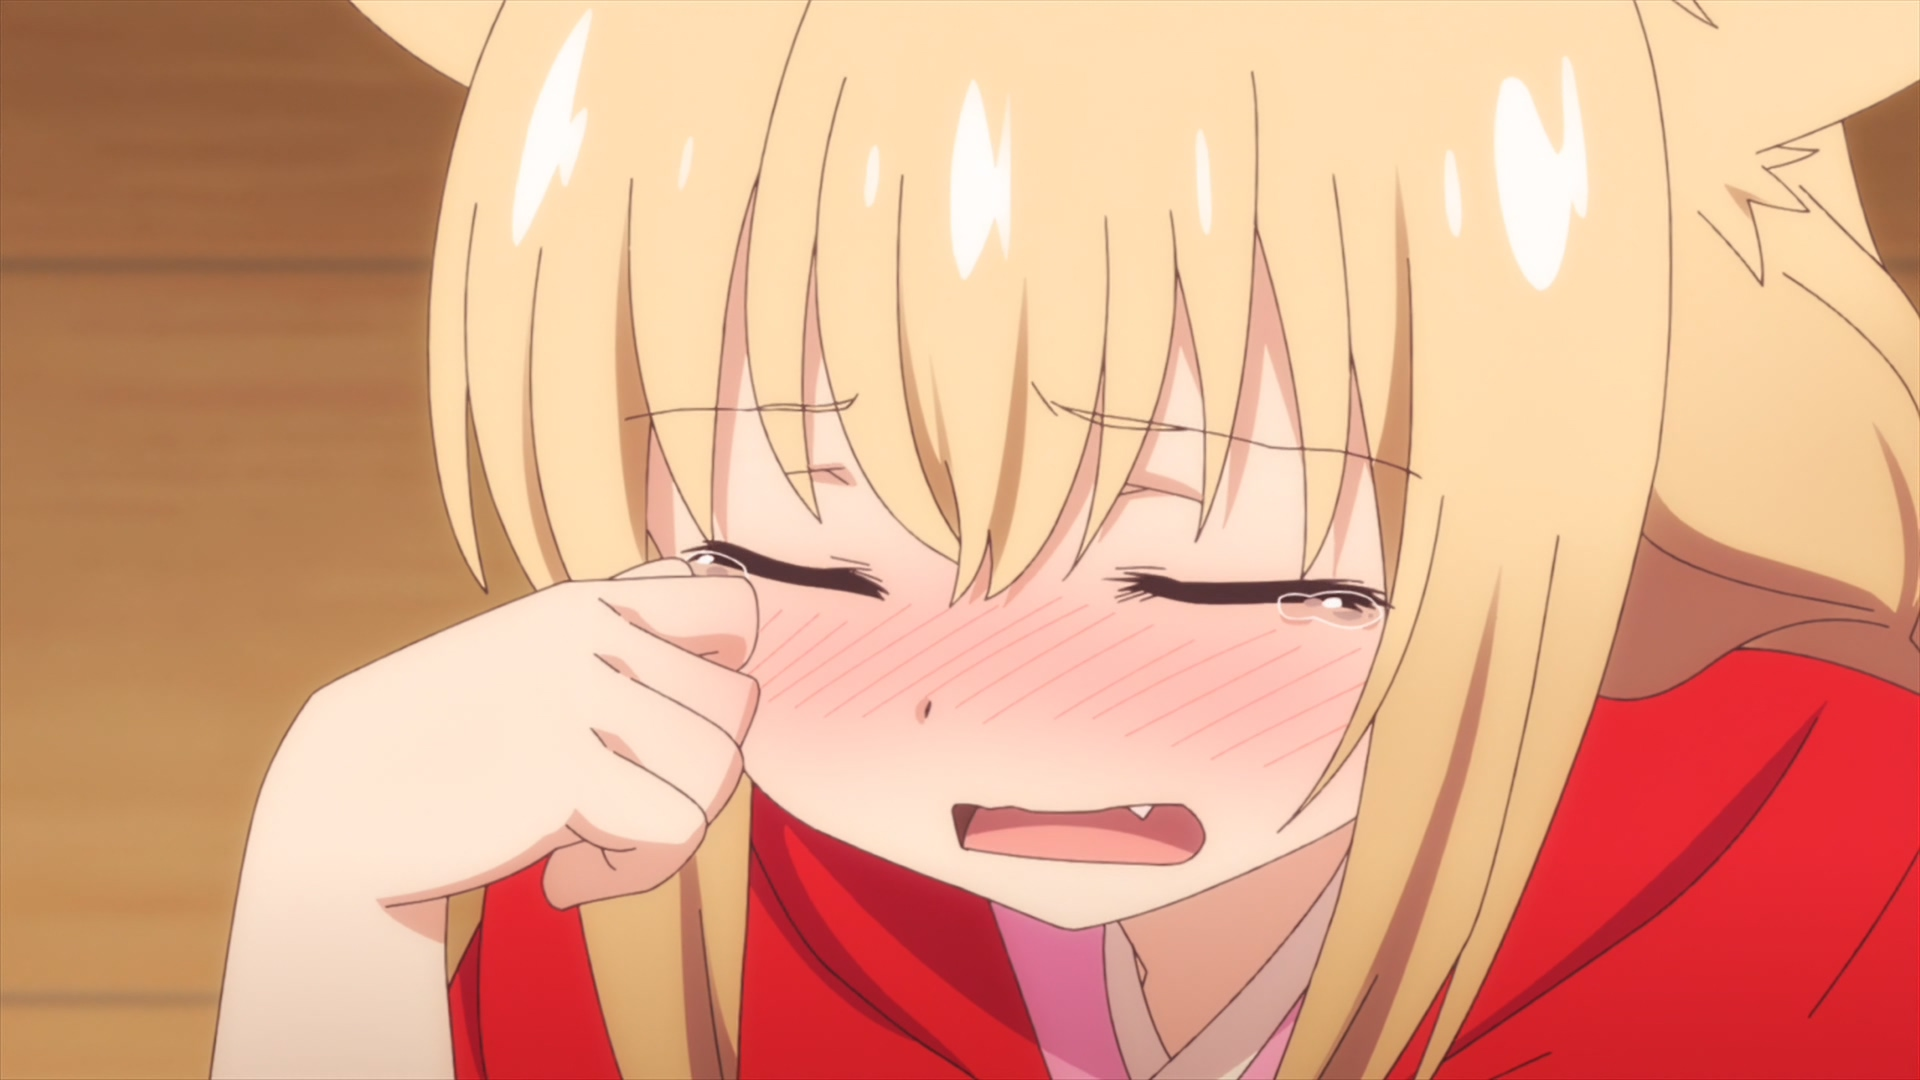柚: (208, 1, 1920, 1080)
